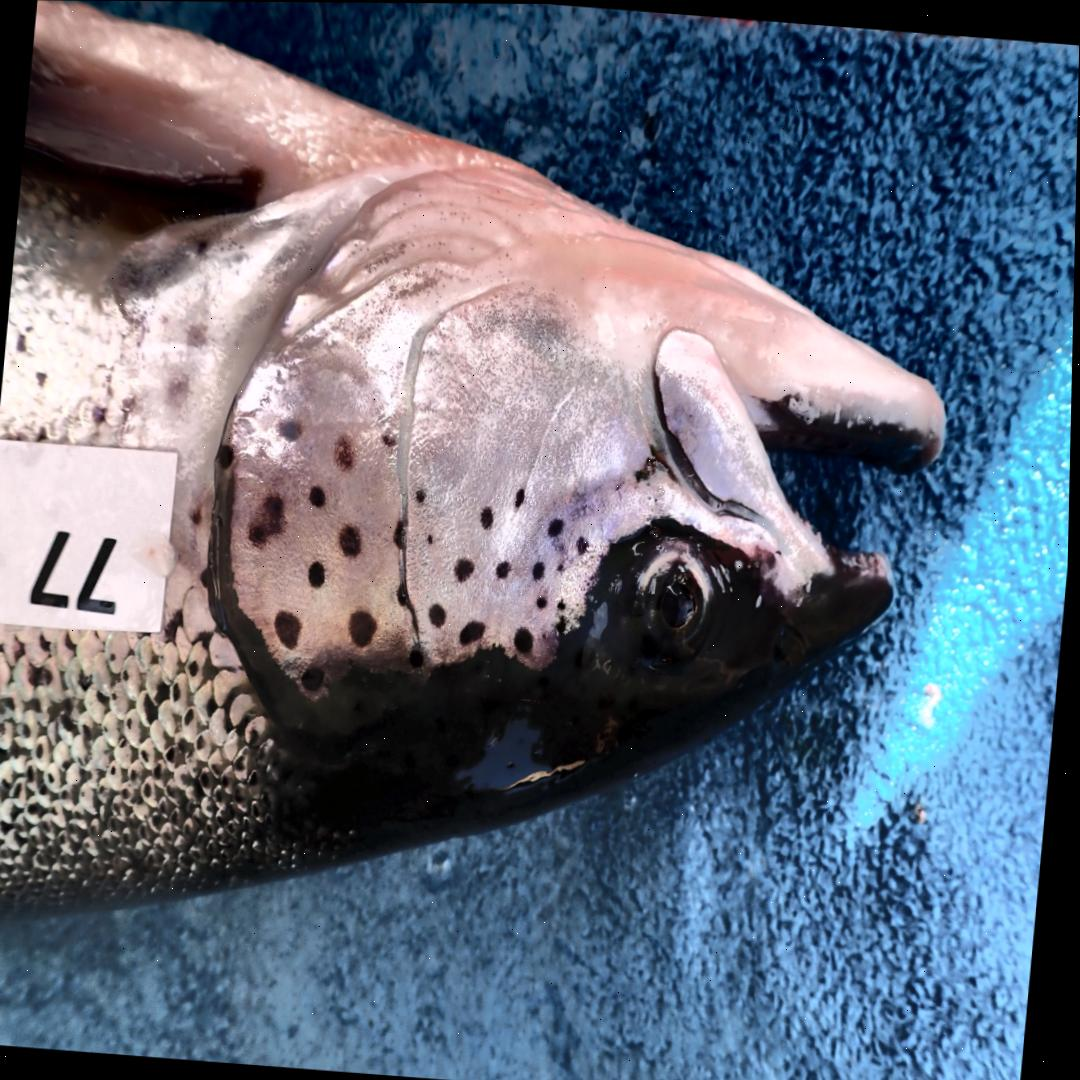spot: (248, 492, 287, 548), (350, 609, 380, 646), (276, 609, 304, 647), (335, 433, 357, 471), (340, 524, 363, 556), (303, 665, 327, 694), (278, 418, 304, 441), (461, 621, 487, 643), (456, 556, 476, 581), (516, 627, 535, 653), (310, 560, 327, 587), (218, 444, 236, 469), (431, 604, 448, 627), (310, 484, 327, 507), (410, 647, 426, 668), (549, 516, 565, 536), (482, 506, 495, 529), (395, 517, 404, 546), (534, 560, 547, 580), (398, 583, 408, 606), (498, 559, 510, 577), (383, 432, 398, 446), (578, 535, 589, 553), (516, 488, 526, 506), (416, 486, 426, 502), (558, 615, 568, 631), (539, 595, 549, 607), (559, 598, 568, 609), (428, 532, 434, 544), (558, 561, 565, 570)
